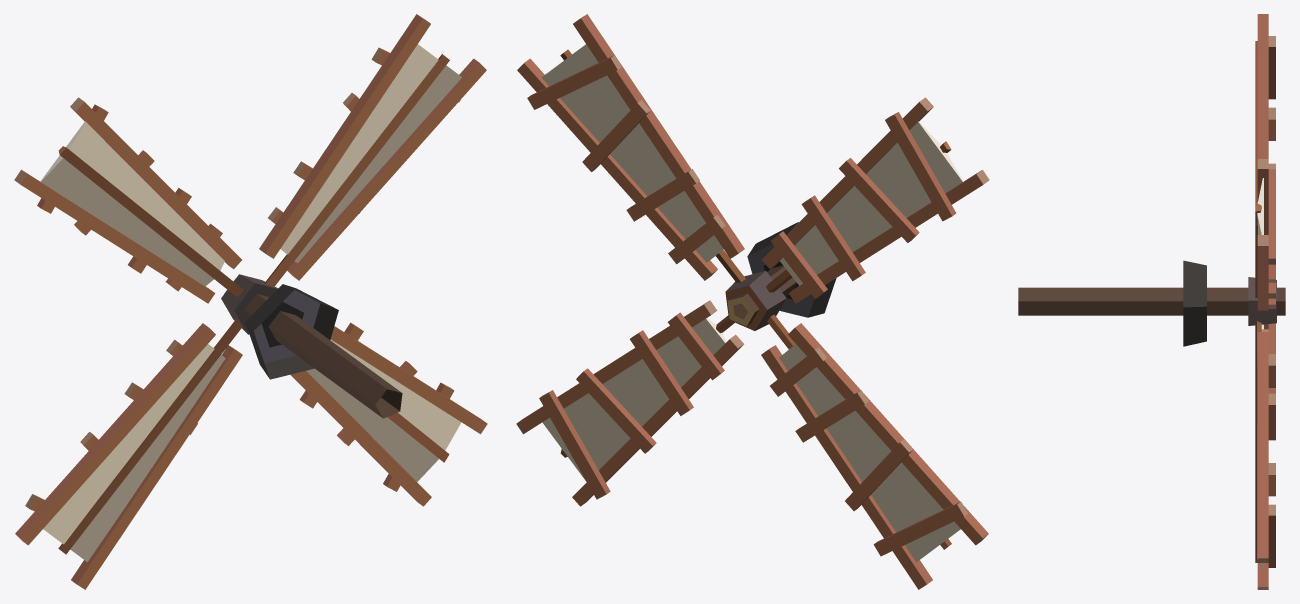
The model's file is TB_Bd_Windmill.FBX.
3 views of the same model, side by side, from view 1: azimuth 30°, elevation 25°; view 2: azimuth 150°, elevation 25°; view 3: azimuth 270°, elevation 25° (orthographic). The views are drawn at different scales.
Parts seen in each view (by area): view 1: TB_Bd_Windmill, TB_Bd_WindmilAxisl; view 2: TB_Bd_Windmill, TB_Bd_WindmilAxisl; view 3: TB_Bd_Windmill, TB_Bd_WindmilAxisl.
Boxes of the visible parts, x1,y1,x2,y2 form: TB_Bd_Windmill: (14, 14, 487, 589); TB_Bd_WindmilAxisl: (245, 284, 338, 379); TB_Bd_Windmill: (516, 14, 989, 589); TB_Bd_WindmilAxisl: (747, 222, 836, 317); TB_Bd_Windmill: (1018, 14, 1285, 589); TB_Bd_WindmilAxisl: (1183, 260, 1206, 346).
Bounding box in the file's own units: 6.43 × 6.43 × 3.61.
